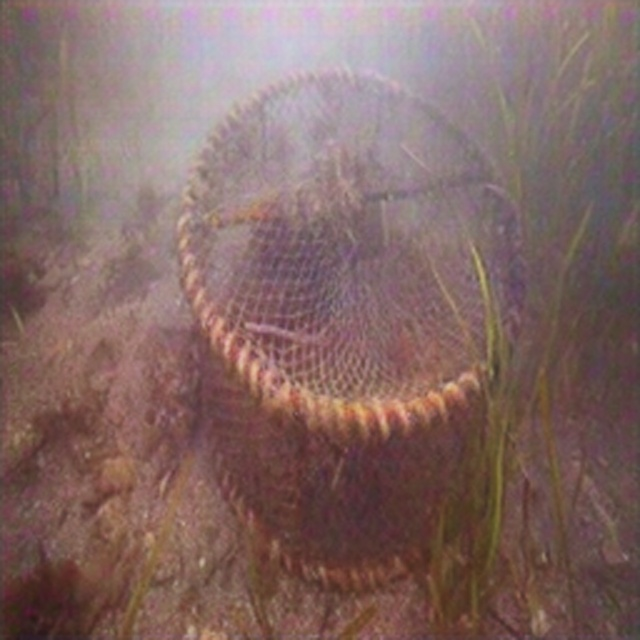mine: (174, 63, 524, 594)
